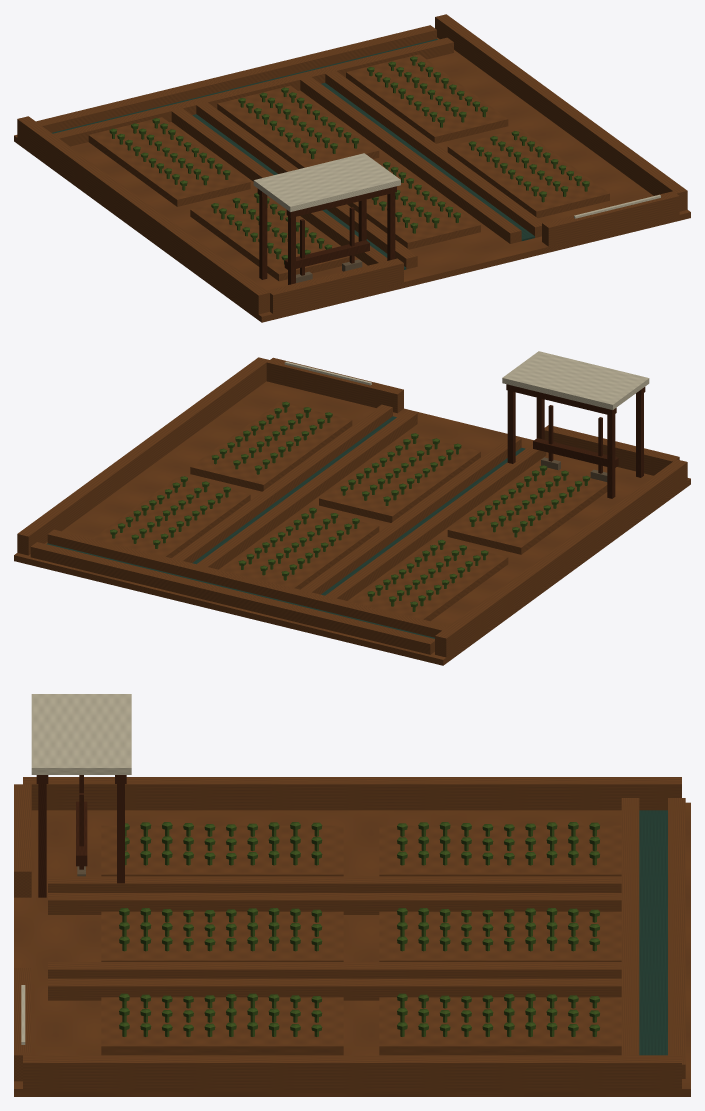
The model's file is Berber_Farm_Age1_untouched.fbx.
3 renders of one model, top to bottom at view 1: azimuth 30°, elevation 25°; view 2: azimuth 150°, elevation 25°; view 3: azimuth 270°, elevation 25°, orthographic. The views are drawn at different scales.
Visible parts, largest first — view 1: flat_earth_plot, low_side_edging, low_side_edging.001, raised_bed_0_1, raised_bed_2_1, raised_bed_2_0, header_channel_bank.001, raised_bed_1_1, woven_tool_shade, branch_channel_bank.002, raised_bed_0_0, header_channel_bank (+14 smaller); view 2: flat_earth_plot, low_side_edging, low_side_edging.001, header_channel_bank.001, raised_bed_0_0, raised_bed_2_0, raised_bed_1_0, header_channel_bank, raised_bed_0_1, raised_bed_2_1, raised_bed_1_1, woven_tool_shade (+14 smaller); view 3: flat_earth_plot, low_side_edging.001, low_side_edging, raised_bed_2_1, raised_bed_2_0, branch_channel_bank.003, branch_channel_bank.001, raised_bed_0_1, raised_bed_1_0, raised_bed_1_1, raised_bed_0_0, branch_channel_bank.002 (+10 smaller).
Boxes of the visible parts, left/top/right/bottom form: flat_earth_plot: left=14, top=37, right=690, bottom=322; low_side_edging: left=17, top=116, right=269, bottom=314; low_side_edging.001: left=435, top=14, right=687, bottom=211; raised_bed_0_1: left=88, top=117, right=250, bottom=206; raised_bed_2_1: left=346, top=54, right=508, bottom=143; raised_bed_2_0: left=447, top=129, right=609, bottom=217; header_channel_bank.001: left=36, top=25, right=436, bottom=132; raised_bed_1_1: left=217, top=85, right=379, bottom=168; woven_tool_shade: left=253, top=153, right=400, bottom=211; branch_channel_bank.002: left=300, top=77, right=521, bottom=243; raised_bed_0_0: left=190, top=194, right=349, bottom=281; header_channel_bank: left=53, top=37, right=453, bottom=146; flat_earth_plot: left=14, top=381, right=690, bottom=665; low_side_edging: left=435, top=459, right=687, bottom=657; low_side_edging.001: left=17, top=357, right=269, bottom=555; header_channel_bank.001: left=30, top=542, right=434, bottom=654; raised_bed_0_0: left=447, top=465, right=607, bottom=554; raised_bed_2_0: left=190, top=402, right=352, bottom=491; raised_bed_1_0: left=319, top=433, right=480, bottom=522; header_channel_bank: left=47, top=529, right=448, bottom=637; raised_bed_0_1: left=350, top=539, right=508, bottom=621; raised_bed_2_1: left=92, top=476, right=250, bottom=557; raised_bed_1_1: left=221, top=508, right=379, bottom=589; woven_tool_shade: left=502, top=351, right=649, bottom=409; flat_earth_plot: left=14, top=802, right=690, bottom=1096; low_side_edging.001: left=23, top=1055, right=681, bottom=1088; low_side_edging: left=23, top=777, right=681, bottom=810; raised_bed_2_1: left=379, top=997, right=621, bottom=1055; raised_bed_2_0: left=101, top=997, right=343, bottom=1055; branch_channel_bank.003: left=48, top=978, right=621, bottom=1000; branch_channel_bank.001: left=48, top=893, right=621, bottom=914; raised_bed_0_1: left=379, top=825, right=621, bottom=876; raised_bed_1_0: left=101, top=911, right=343, bottom=961; raised_bed_1_1: left=379, top=911, right=621, bottom=961; raised_bed_0_0: left=101, top=825, right=343, bottom=876; branch_channel_bank.002: left=48, top=962, right=621, bottom=978.
Size of the model in its own units: 380 by 86.75 by 380.
Materials: 6 (6 with a texture image).
